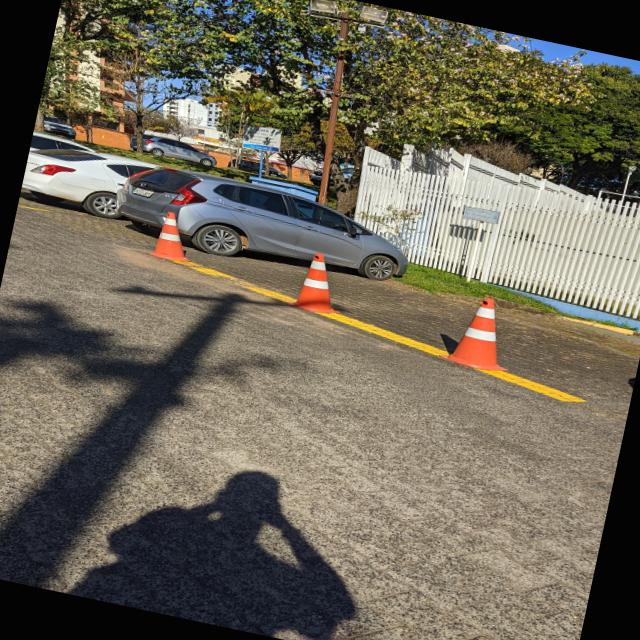cone: (432, 287, 527, 377), (283, 246, 355, 319), (144, 206, 206, 268)
